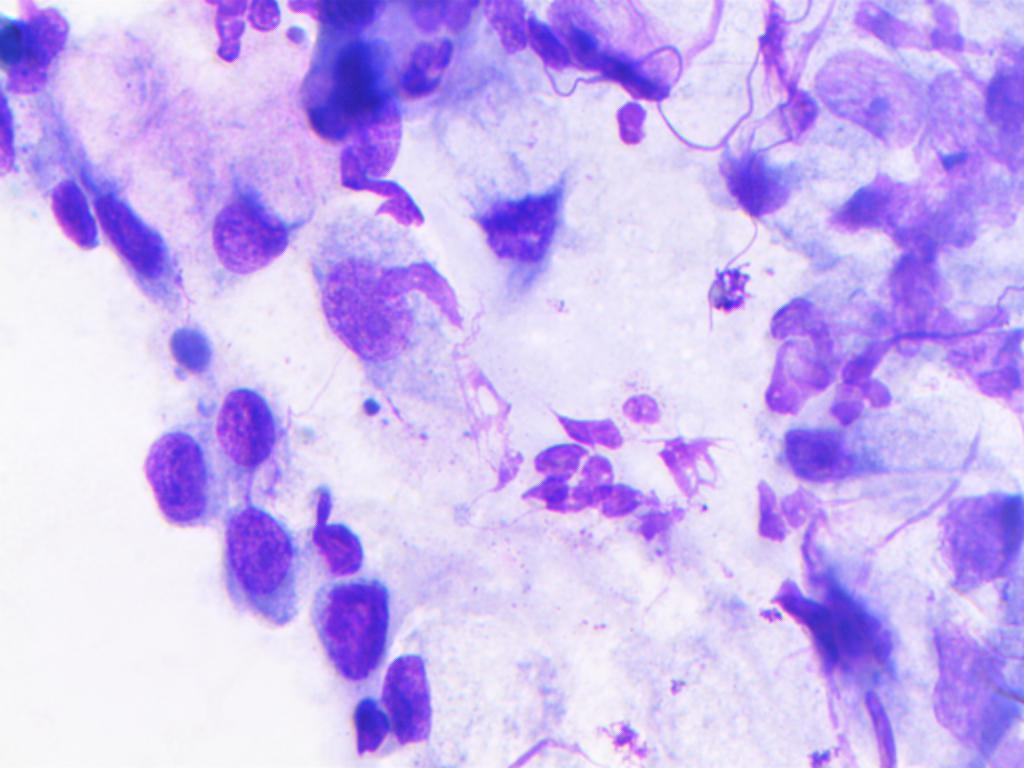epithelial: (319, 236, 467, 410), (128, 405, 214, 555), (814, 40, 924, 154), (213, 489, 297, 626), (299, 572, 390, 682), (210, 375, 306, 477), (93, 176, 175, 286), (35, 171, 108, 256), (382, 652, 438, 741), (310, 486, 367, 572), (911, 118, 982, 179)
goblet_cell: (194, 137, 347, 286)
neutrophil: (533, 434, 613, 512), (197, 0, 289, 60)
